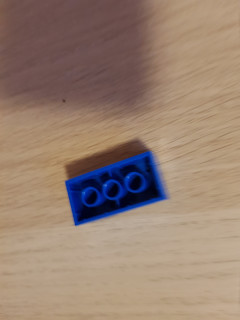2x4 blue: (64, 147, 173, 228)
